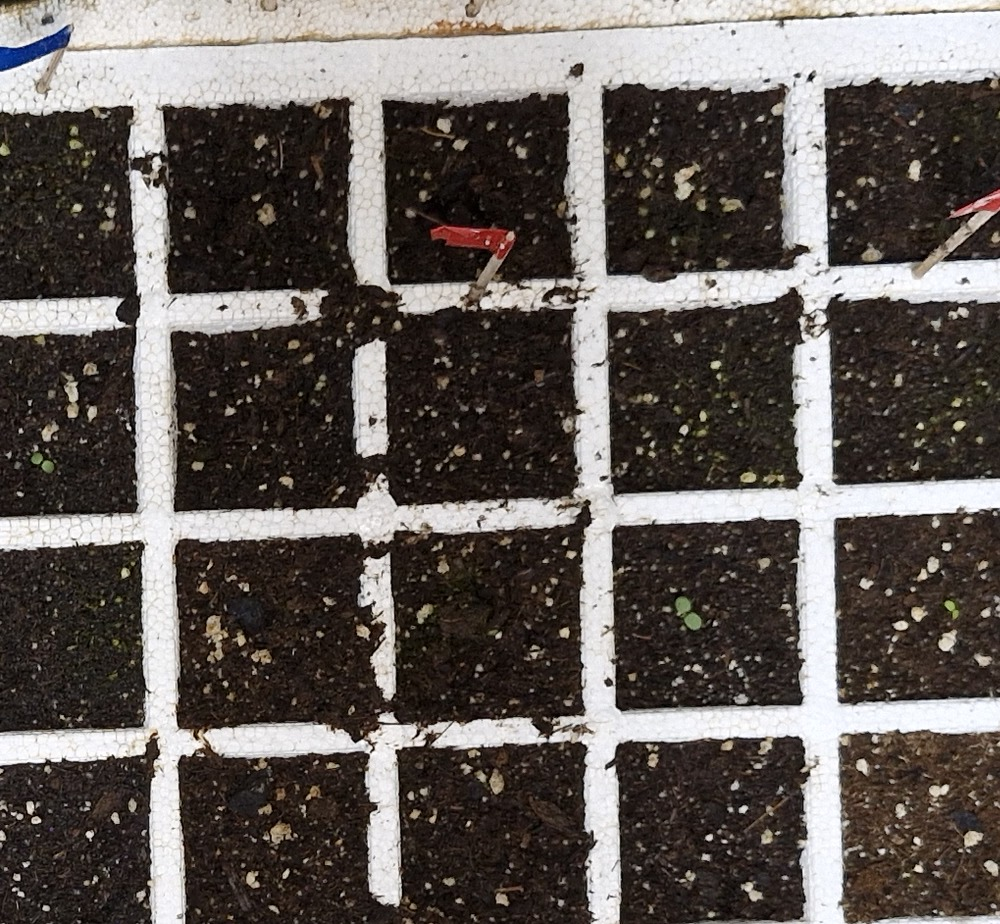Folha: (685, 613, 701, 629), (675, 597, 691, 613), (41, 460, 54, 473), (31, 453, 44, 464), (944, 600, 956, 611)
Germinacao: (674, 597, 702, 630), (30, 453, 55, 473), (945, 601, 959, 619)
